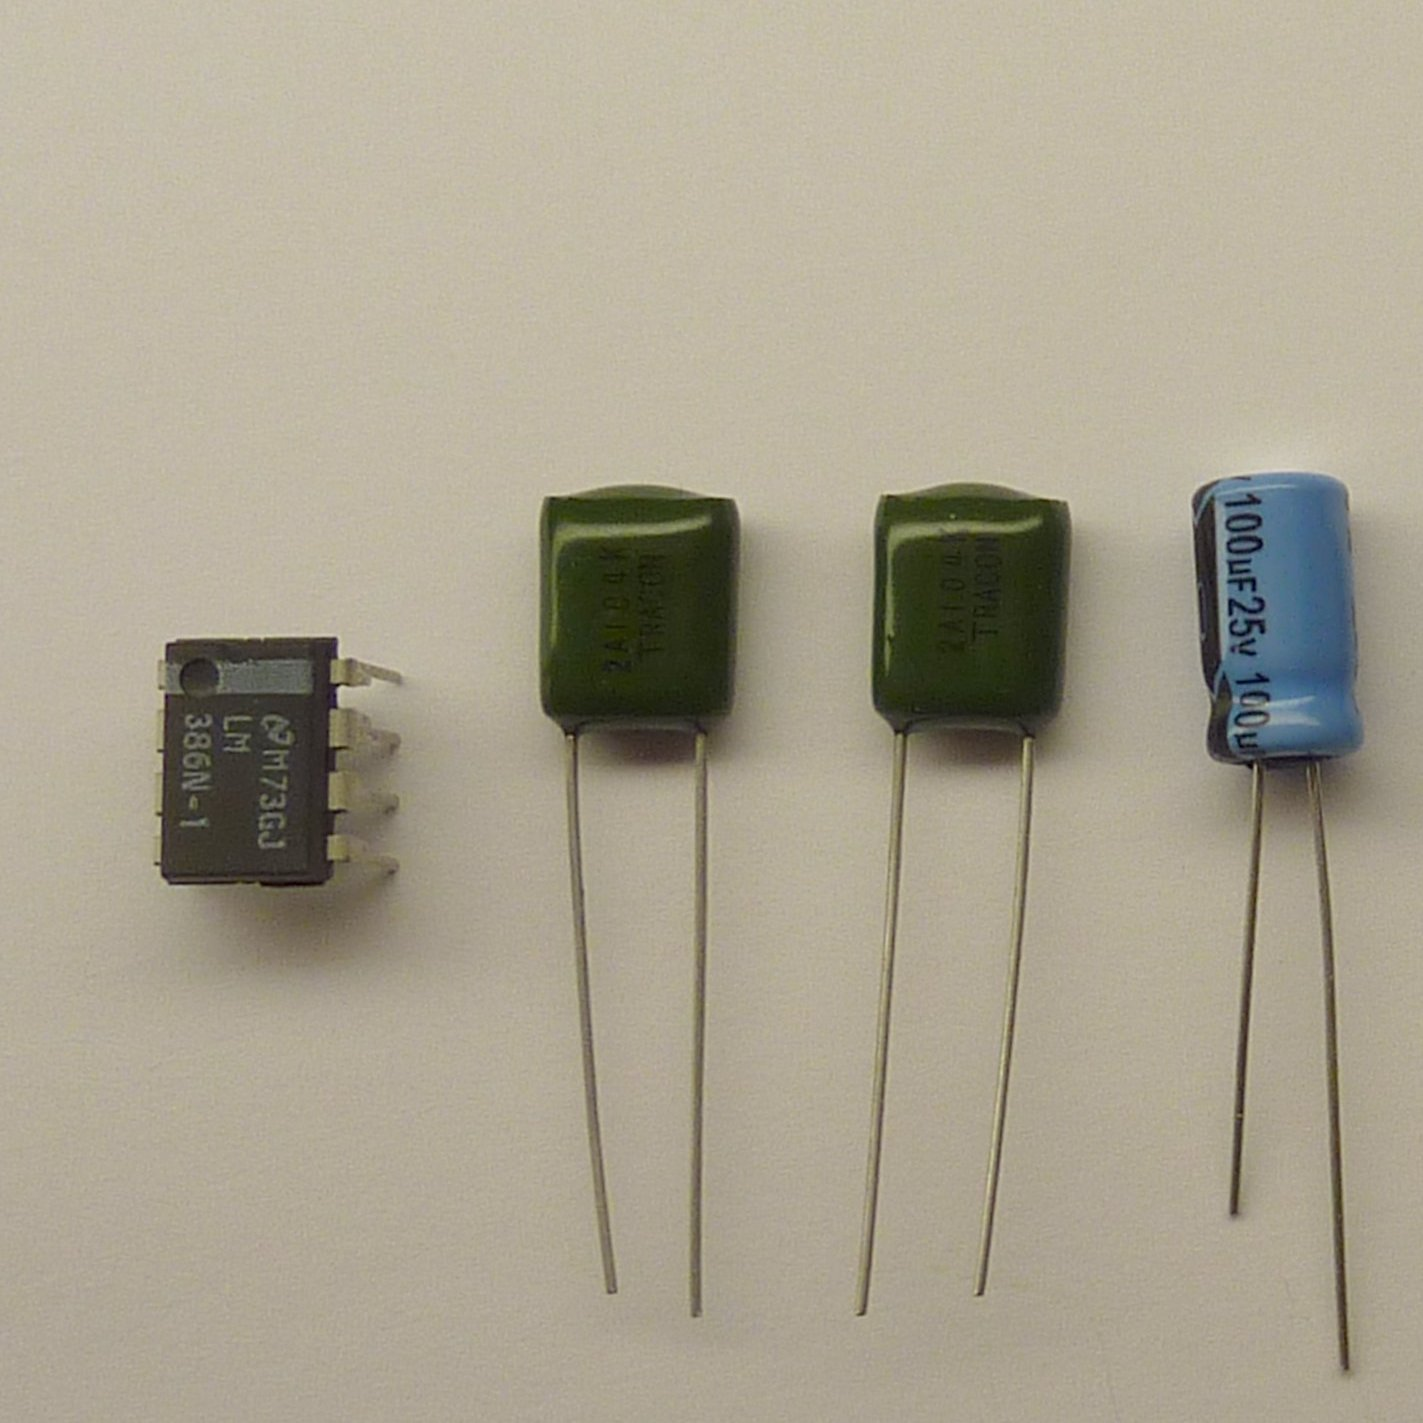Capacitor: (1187, 470, 1368, 770)
